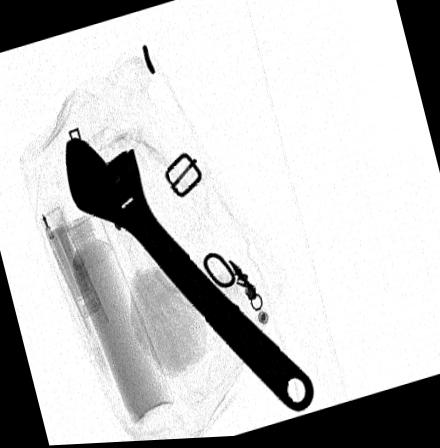Wrench: (63, 138, 314, 415)
